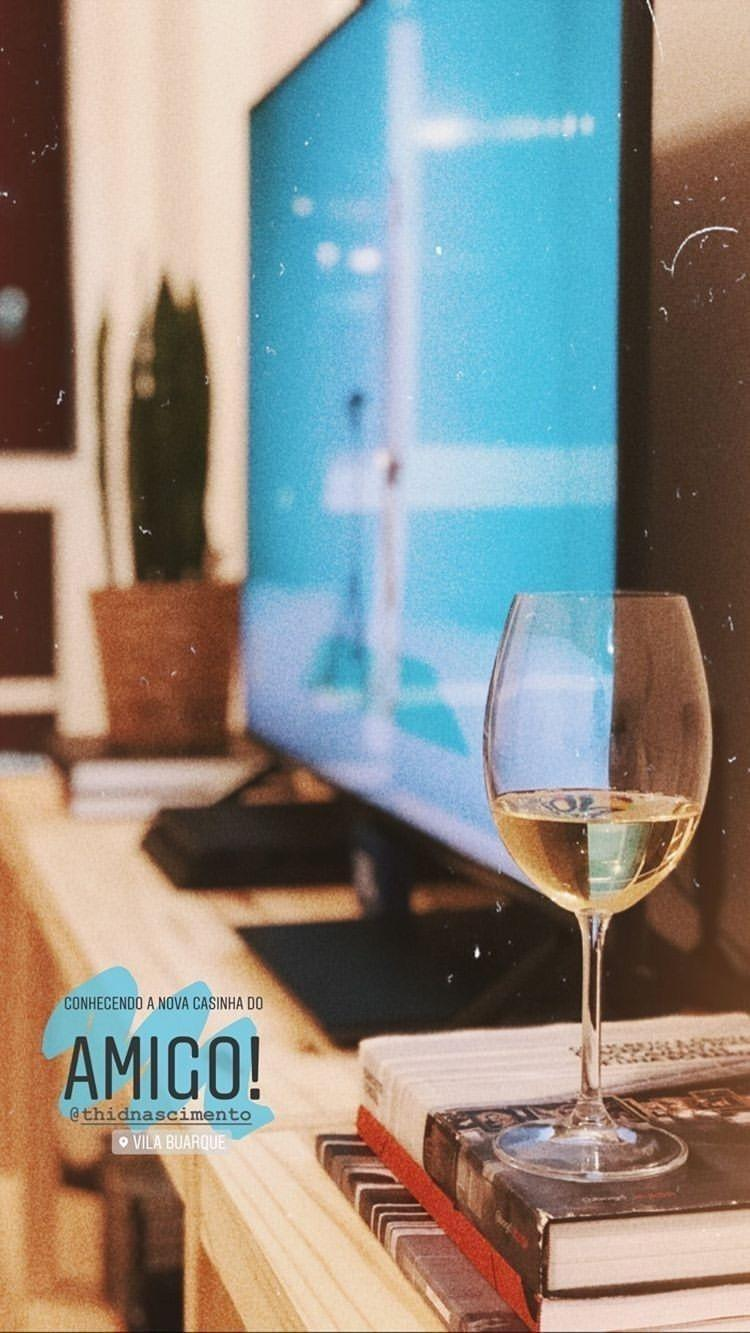glass-wine: (478, 589, 716, 1186)
